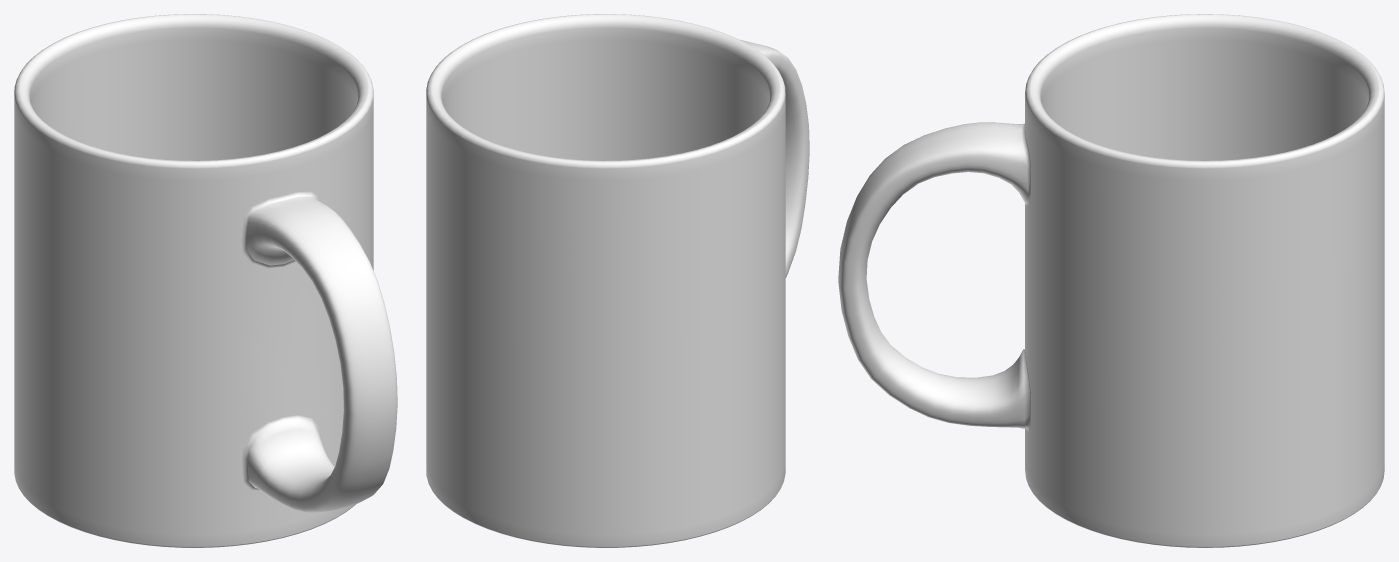
File: coffee_mug_white.glb
3 renders of one model, left to right at view 1: azimuth 30°, elevation 25°; view 2: azimuth 150°, elevation 25°; view 3: azimuth 270°, elevation 25°, orthographic.
Parts seen in each view (by area): view 1: Coffee Mug_White; view 2: Coffee Mug_White; view 3: Coffee Mug_White.
Boxes of the visible parts, x1,y1,x2,y2 form: Coffee Mug_White: (14, 14, 397, 547); Coffee Mug_White: (426, 14, 809, 547); Coffee Mug_White: (838, 14, 1384, 547).
Size of the model in its own units: 8.05 by 9.5 by 12.23.
1 material, 1 textured.
